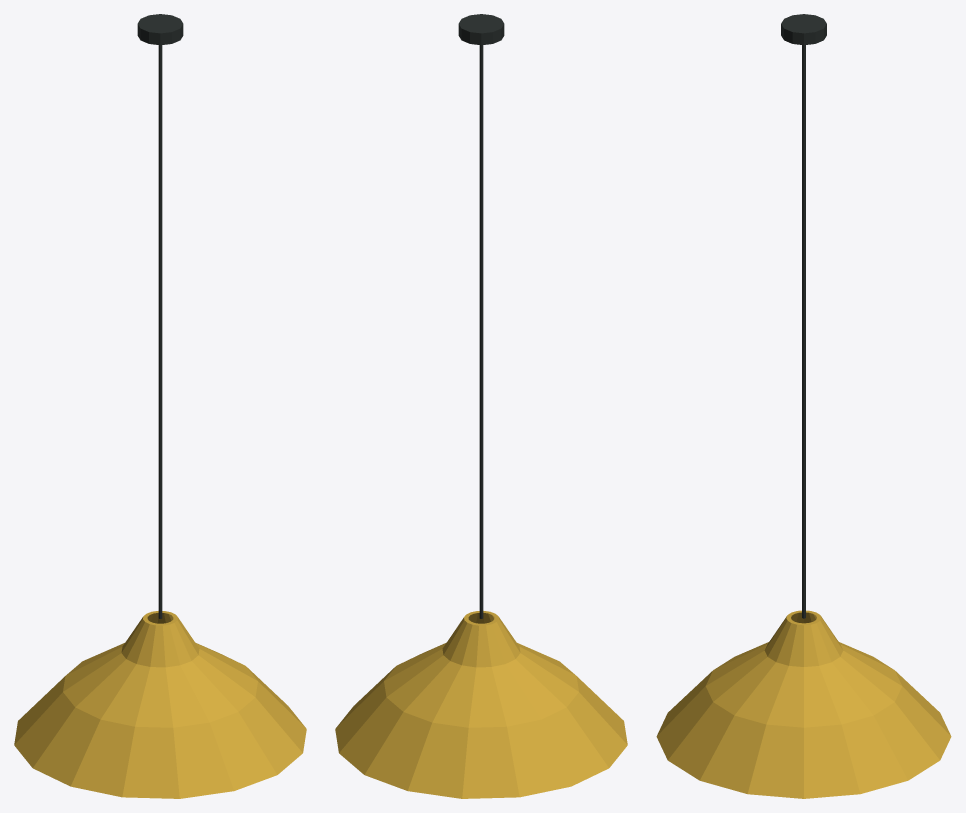
Rendered from pendant_lamp.glb.
3 views of the same model, side by side, from view 1: azimuth 30°, elevation 25°; view 2: azimuth 150°, elevation 25°; view 3: azimuth 270°, elevation 25° (orthographic).
Parts seen in each view (by area): view 1: body; view 2: body; view 3: body.
Boxes of the visible parts, x1,y1,x2,y2 form: body: (14, 14, 306, 798); body: (335, 14, 627, 798); body: (656, 14, 951, 798).
Size of the model in its own units: 0.45 by 1.2 by 0.45.
